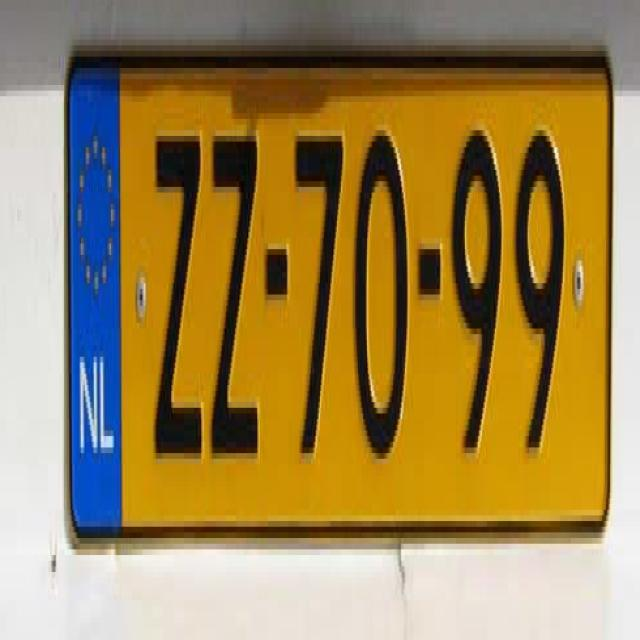EU: (67, 58, 610, 537)
Pays-Bas: (68, 68, 121, 547)
